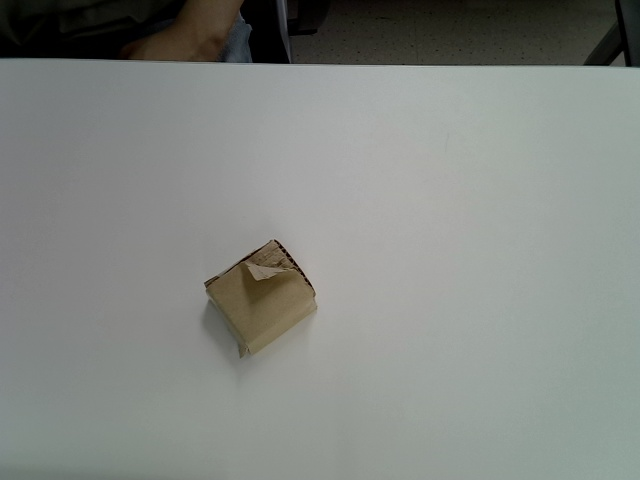defect: (203, 239, 318, 359)
